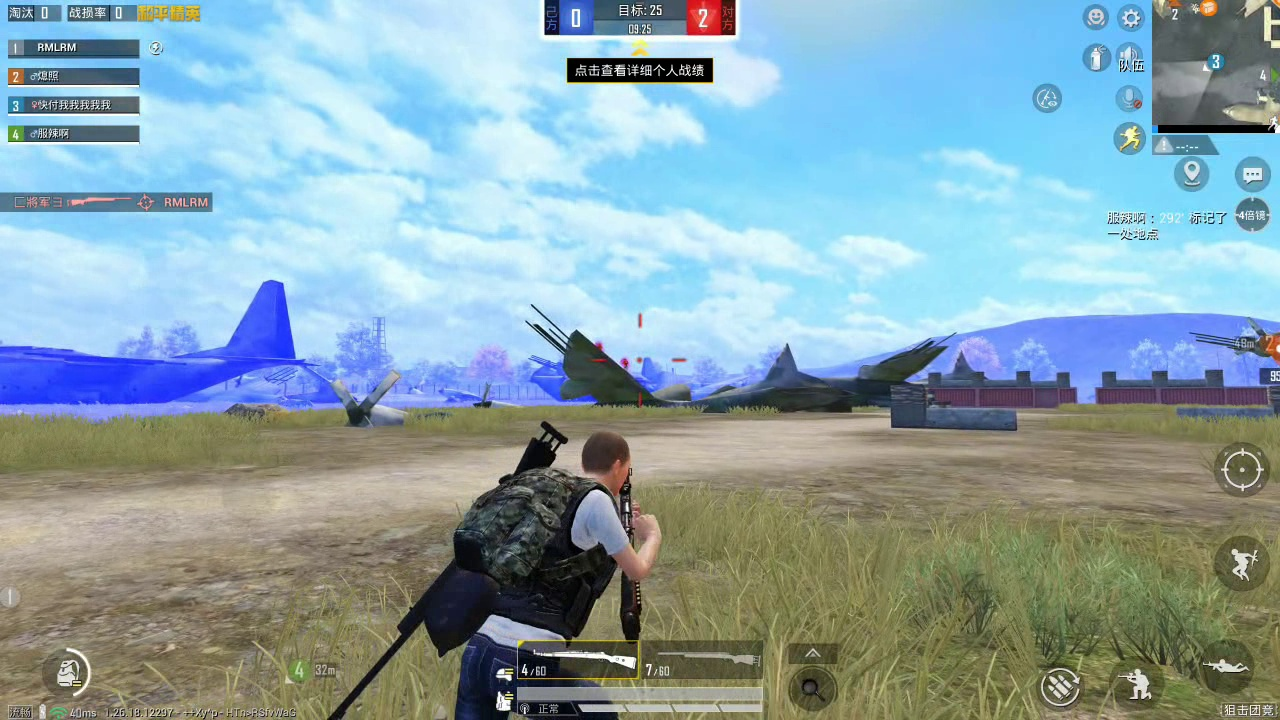enemy: (595, 339, 606, 352), (619, 357, 630, 370)
